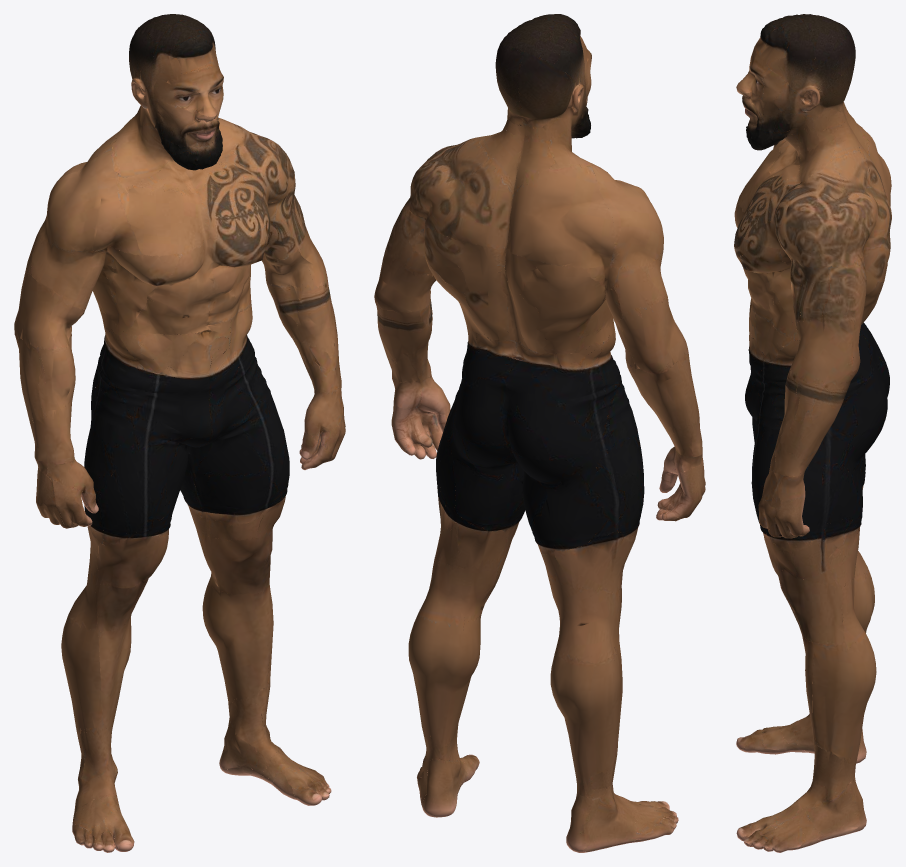
Rendered from matthias-avatar.glb.
3 renders of one model, left to right at view 1: azimuth 30°, elevation 25°; view 2: azimuth 150°, elevation 25°; view 3: azimuth 270°, elevation 25°, orthographic. The views are drawn at different scales.
Parts seen in each view (by area): view 1: Mesh_0; view 2: Mesh_0; view 3: Mesh_0.
Part boxes in pixels (x1,y1,x2,y2): Mesh_0: (14, 14, 345, 852); Mesh_0: (374, 14, 705, 852); Mesh_0: (734, 14, 891, 852).
Bounding box in the file's own units: 0.7735 × 1.9 × 0.3525.
Materials: 1 (1 with a texture image).
